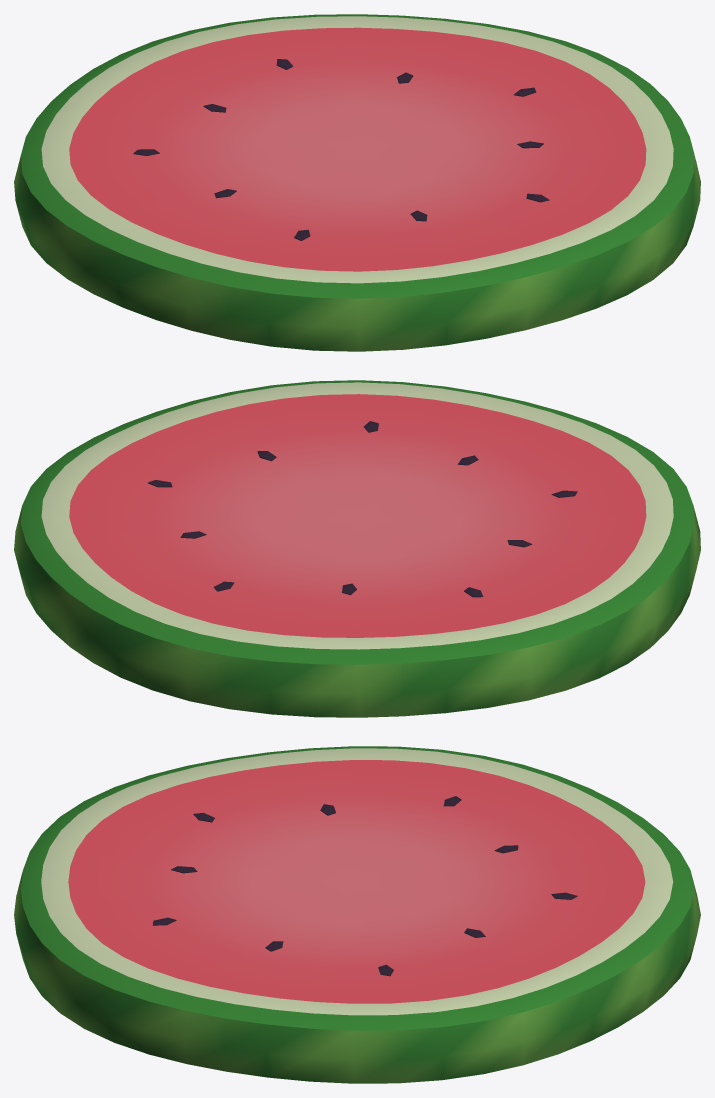
The model's file is watermelon.glb.
The picture shows the model from 3 angles, top to bottom: view 1: azimuth 30°, elevation 25°; view 2: azimuth 150°, elevation 25°; view 3: azimuth 270°, elevation 25°; orthographic projection.
Visible parts, largest first — view 1: body; view 2: body; view 3: body.
Part boxes in pixels (bbox=[...]): body: bbox=[14, 14, 700, 351]; body: bbox=[14, 380, 700, 717]; body: bbox=[14, 746, 700, 1083].
Size of the model in its own units: 1.1 by 0.12 by 1.1.
